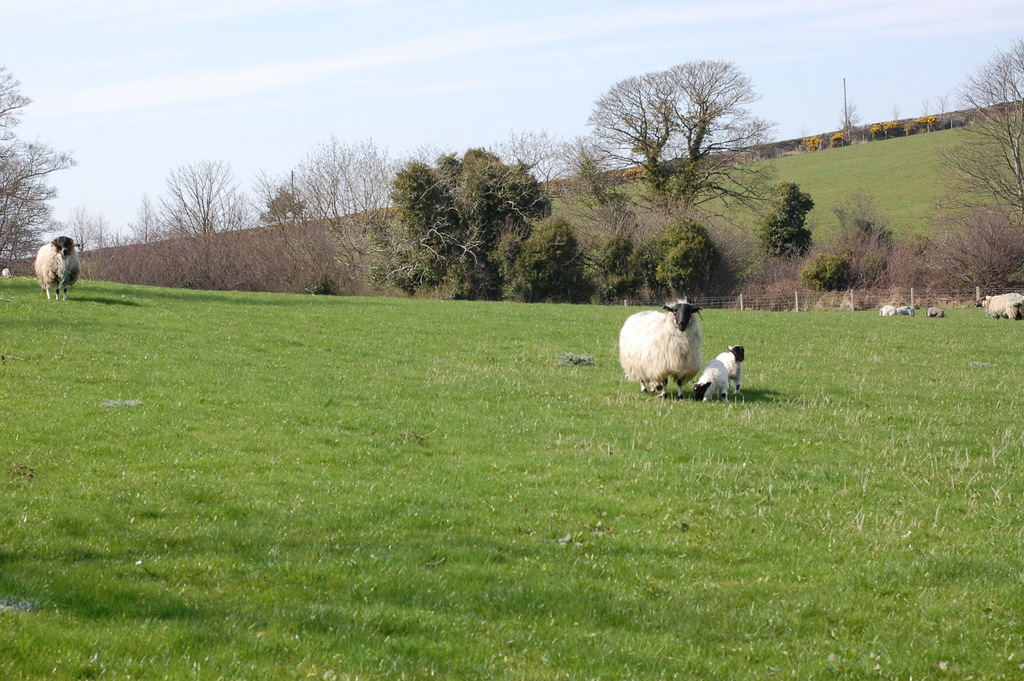sheep: (613, 295, 702, 396), (31, 231, 82, 301), (974, 293, 1023, 322), (693, 356, 720, 400)
